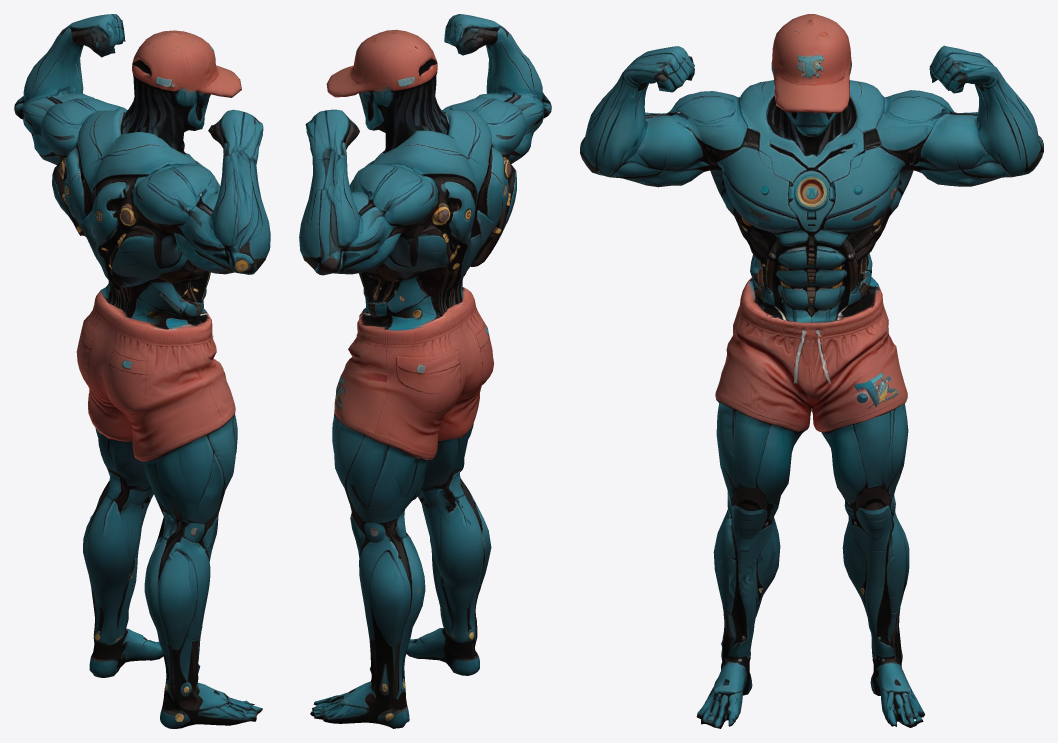
File: captain_hema_fixed_final2.glb
3 views of the same model, side by side, from view 1: azimuth 30°, elevation 25°; view 2: azimuth 150°, elevation 25°; view 3: azimuth 270°, elevation 25° (orthographic). The views are drawn at different scales.
Parts seen in each view (by area): view 1: backleg_mesh_Clone, hamstrings_mesh, glutes_mesh, forearms_mesh, quads_mesh, calves_mesh.001, traps_mesh, trapsmiddle_mesh, rearshoulders_mesh, lats_mesh, obliques, hands_mesh (+5 smaller); view 2: backleg_mesh_Clone, glutes_mesh, quads_mesh, forearms_mesh, hamstrings_mesh, calves_mesh.001, trapsmiddle_mesh, traps_mesh, rearshoulders_mesh, lats_mesh, obliques, hands_mesh (+5 smaller); view 3: backleg_mesh_Clone, quads_mesh, chest_mesh, calves_mesh, forearms_mesh, abdominals_mesh, frontshoulders_mesh, biceps_mesh, obliques, hands_mesh, triceps_mesh, traps_mesh (+1 smaller).
Boxes of the visible parts, x1,y1,x2,y2 form: backleg_mesh_Clone: (14, 30, 265, 728); hamstrings_mesh: (88, 387, 198, 535); glutes_mesh: (76, 293, 184, 415); forearms_mesh: (22, 24, 270, 259); quads_mesh: (132, 358, 237, 517); calves_mesh.001: (83, 499, 186, 640); traps_mesh: (77, 109, 195, 190); trapsmiddle_mesh: (59, 144, 145, 277); rearshoulders_mesh: (41, 98, 202, 227); lats_mesh: (52, 161, 182, 287); obliques: (104, 254, 210, 327); hands_mesh: (70, 14, 263, 155); backleg_mesh_Clone: (306, 29, 551, 728); glutes_mesh: (383, 288, 493, 420); quads_mesh: (332, 360, 431, 516); forearms_mesh: (299, 29, 544, 261); hamstrings_mesh: (372, 386, 481, 524); calves_mesh.001: (386, 495, 491, 625); trapsmiddle_mesh: (422, 141, 511, 279); traps_mesh: (371, 110, 491, 190); rearshoulders_mesh: (366, 98, 526, 227); lats_mesh: (388, 163, 516, 284); obliques: (359, 258, 463, 326); hands_mesh: (305, 14, 505, 149); backleg_mesh_Clone: (580, 14, 1043, 728); quads_mesh: (715, 334, 908, 513); chest_mesh: (717, 139, 902, 235); calves_mesh: (717, 522, 908, 666); forearms_mesh: (583, 55, 1039, 176); abdominals_mesh: (773, 230, 852, 321); frontshoulders_mesh: (676, 95, 945, 156); biceps_mesh: (640, 112, 984, 169); obliques: (723, 184, 900, 313); hands_mesh: (626, 45, 992, 93); triceps_mesh: (592, 149, 1031, 187); traps_mesh: (738, 80, 886, 135).
Size of the model in its own units: 0.2482 by 1 by 0.6078.
1 material, 1 textured.
